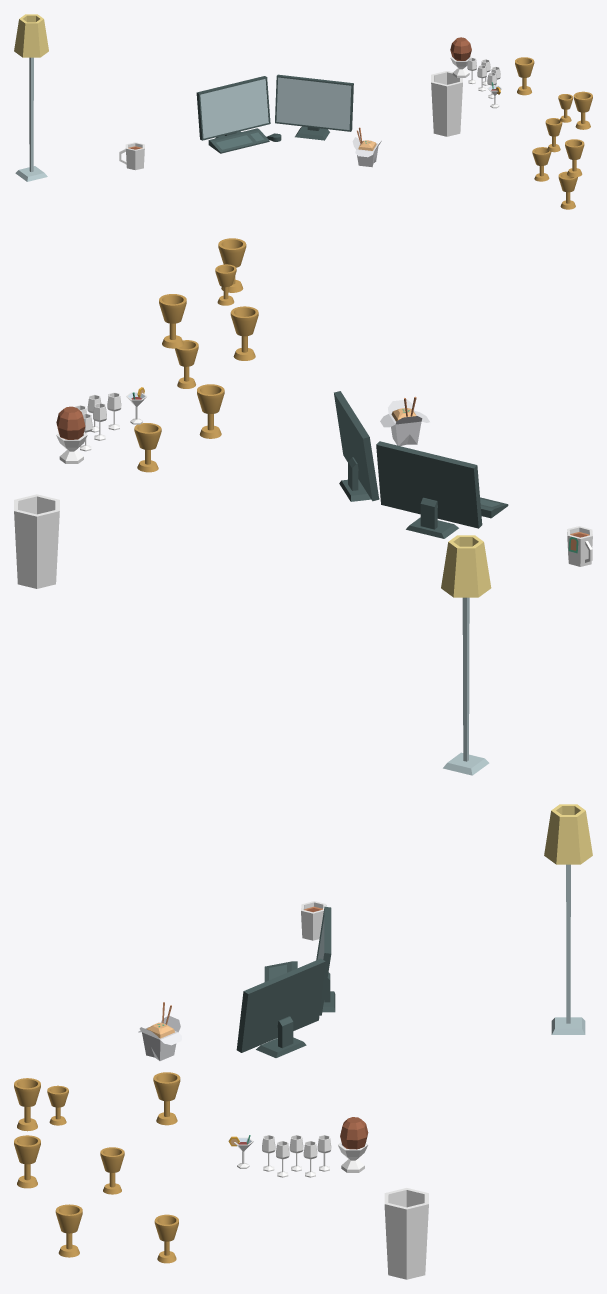
File: Level_0_3-Alt_Items.fbx
The picture shows the model from 3 angles, top to bottom: view 1: azimuth 30°, elevation 25°; view 2: azimuth 150°, elevation 25°; view 3: azimuth 270°, elevation 25°; orthographic projection. The views are drawn at different scales.
Visible parts, largest first — view 1: computerScreen (×2), detailChalice (×7), lampRoundFloor, glass, computerKeyboard, chinese, cupThea, coconut; view 2: computerScreen (×2), detailChalice (×6), lampRoundFloor, glass, chinese, cupThea, coconut; view 3: computerScreen (×2), detailChalice (×6), lampRoundFloor, glass, chinese, cupThea, coconut.
Boxes of the visible parts, x1,y1,x2,y2 form: computerScreen (×2): (196, 74, 353, 140); detailChalice (×7): (515, 57, 592, 209); lampRoundFloor: (14, 14, 48, 181); glass: (431, 71, 462, 136); computerKeyboard: (208, 128, 269, 153); chinese: (352, 127, 381, 167); cupThea: (119, 142, 144, 170); coconut: (450, 37, 471, 60); computerScreen (×2): (334, 391, 482, 538); detailChalice (×6): (134, 238, 258, 472); lampRoundFloor: (441, 535, 491, 775); glass: (14, 494, 59, 588); chinese: (380, 396, 429, 446); cupThea: (567, 526, 592, 566); coconut: (56, 406, 85, 439); computerScreen (×2): (236, 906, 335, 1057); detailChalice (×6): (14, 1072, 180, 1263); lampRoundFloor: (544, 804, 592, 1034); glass: (384, 1188, 428, 1279); chinese: (138, 1002, 181, 1060); cupThea: (301, 901, 326, 940); coconut: (340, 1117, 368, 1149).
Bounding box in the file's own units: 44.69 × 17.2 × 41.52.
